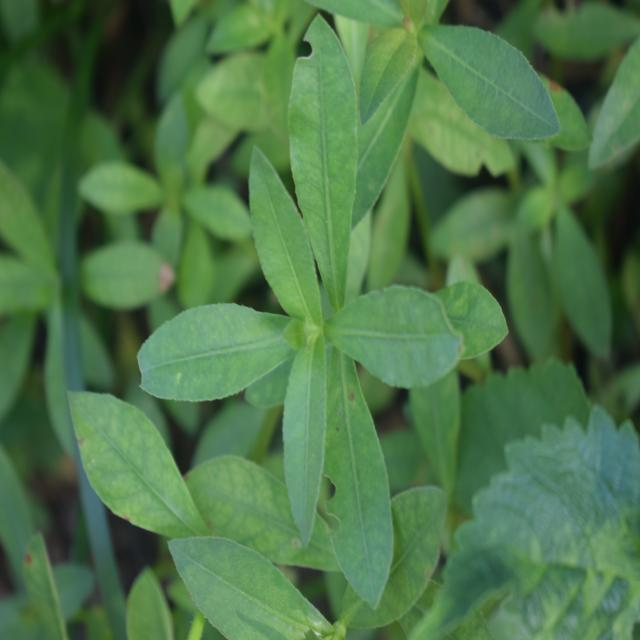Alligatorweed: (146, 56, 464, 567)
